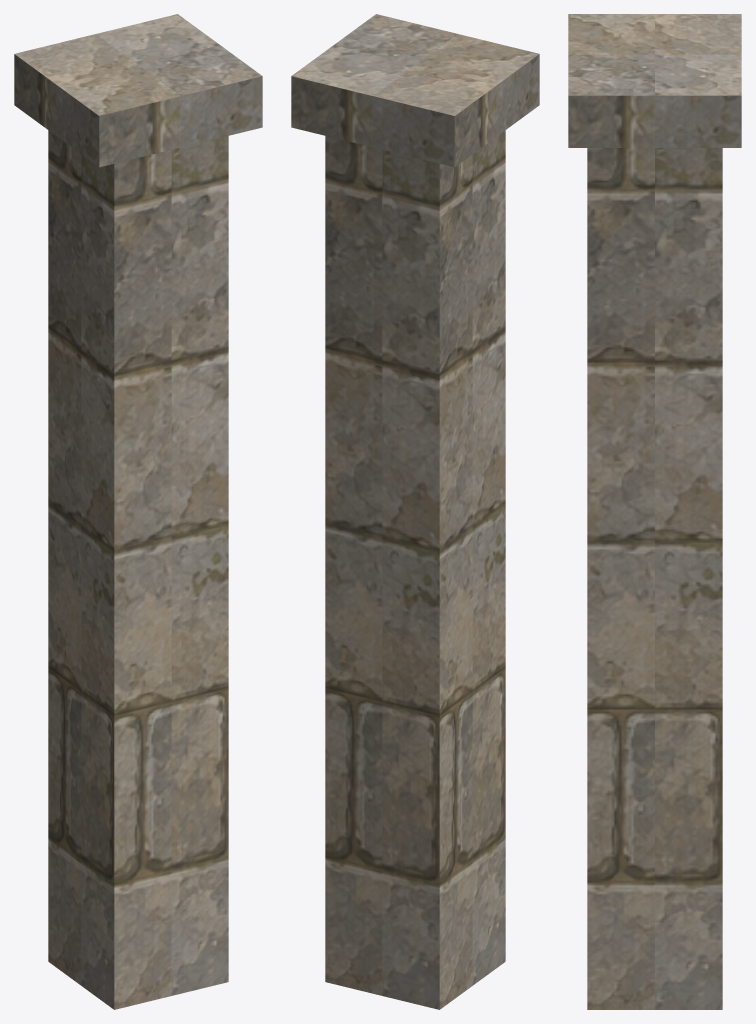
File: castle-arcade-terminal.gltf
3 views of the same model, side by side, from view 1: azimuth 30°, elevation 25°; view 2: azimuth 150°, elevation 25°; view 3: azimuth 270°, elevation 25° (orthographic). The views are drawn at different scales.
Parts seen in each view (by area): view 1: structure-L0-stone; view 2: structure-L0-stone; view 3: structure-L0-stone.
Boxes of the visible parts, x1,y1,x2,y2 form: structure-L0-stone: (14,14,262,1009); structure-L0-stone: (291,14,539,1009); structure-L0-stone: (568,14,741,1009).
Size of the model in its own units: 0.4 by 2.12 by 0.36.
1 material, 1 textured.
